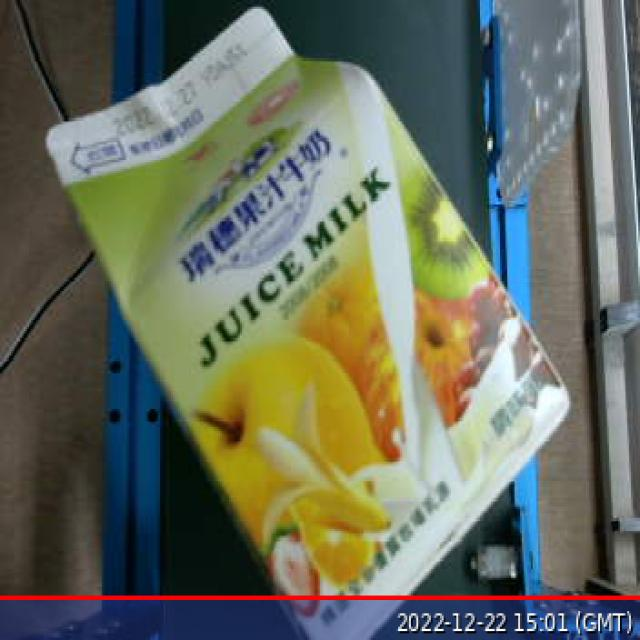non_white_jug: (0, 2, 595, 640)
